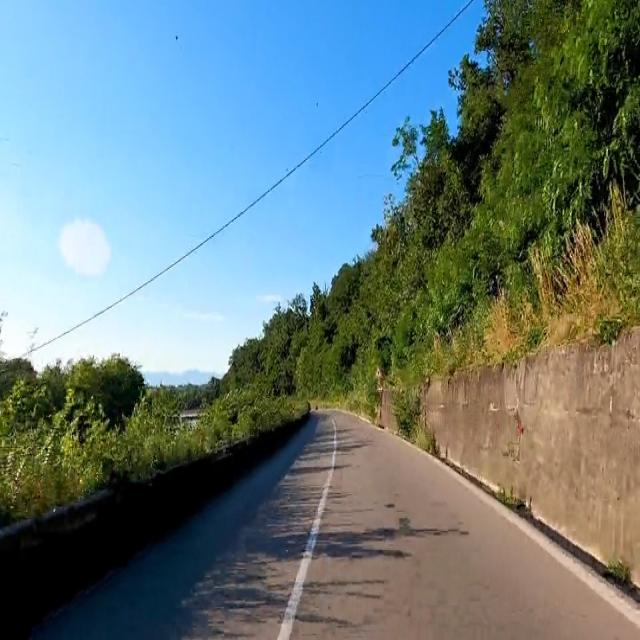lane: (277, 421, 336, 639), (278, 420, 336, 640)
road: (33, 410, 639, 638)
